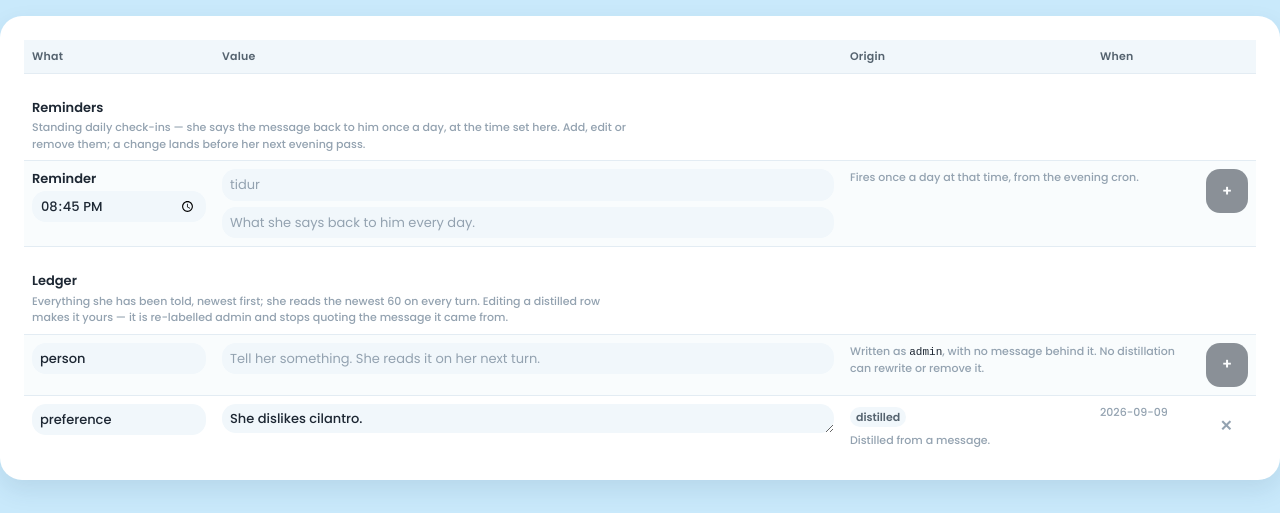
MemoryTable — the add row › keeps the typed row and shows the error when the insert is refused
Type "Something new." into the field named "Tell her something — it goes straight into the ledger" at [528, 358], box [222,342,834,374]
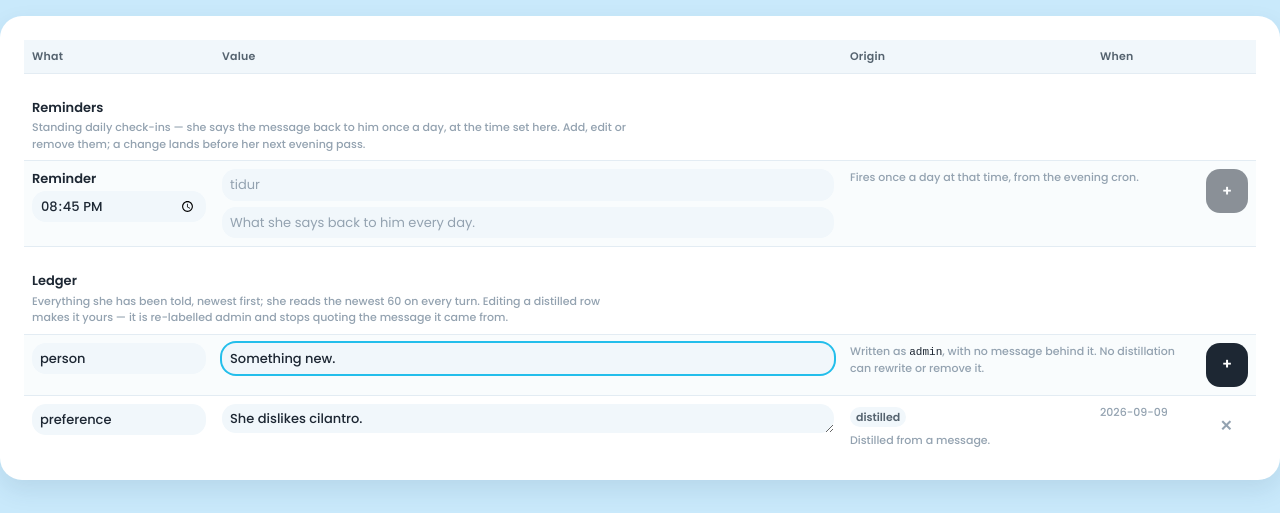
Click the button named "Add this row to the ledger" at [1227, 364], box [1206,342,1248,386]
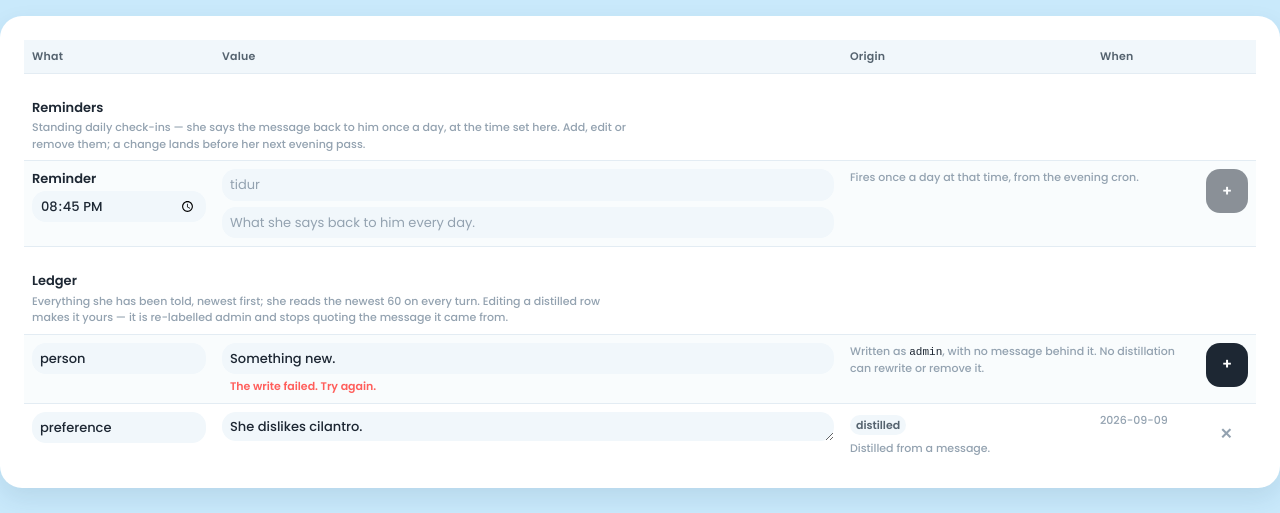
expect the text "The write failed. Try again." is shown: met, box [230,378,376,394]
